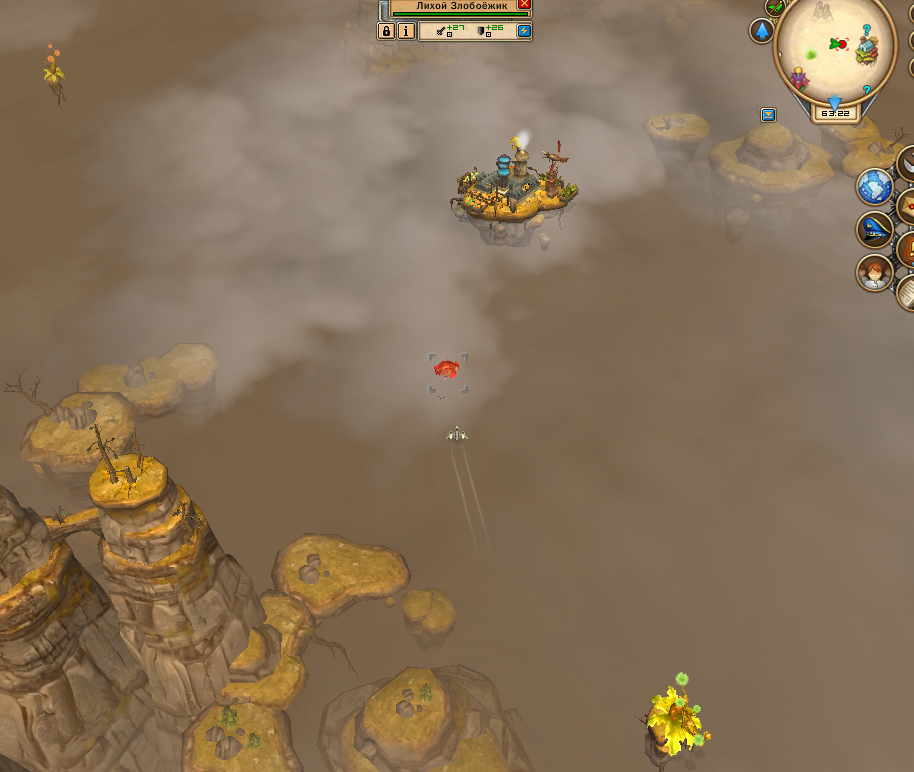dandelion-full: (639, 662, 715, 772), (37, 38, 70, 98)
